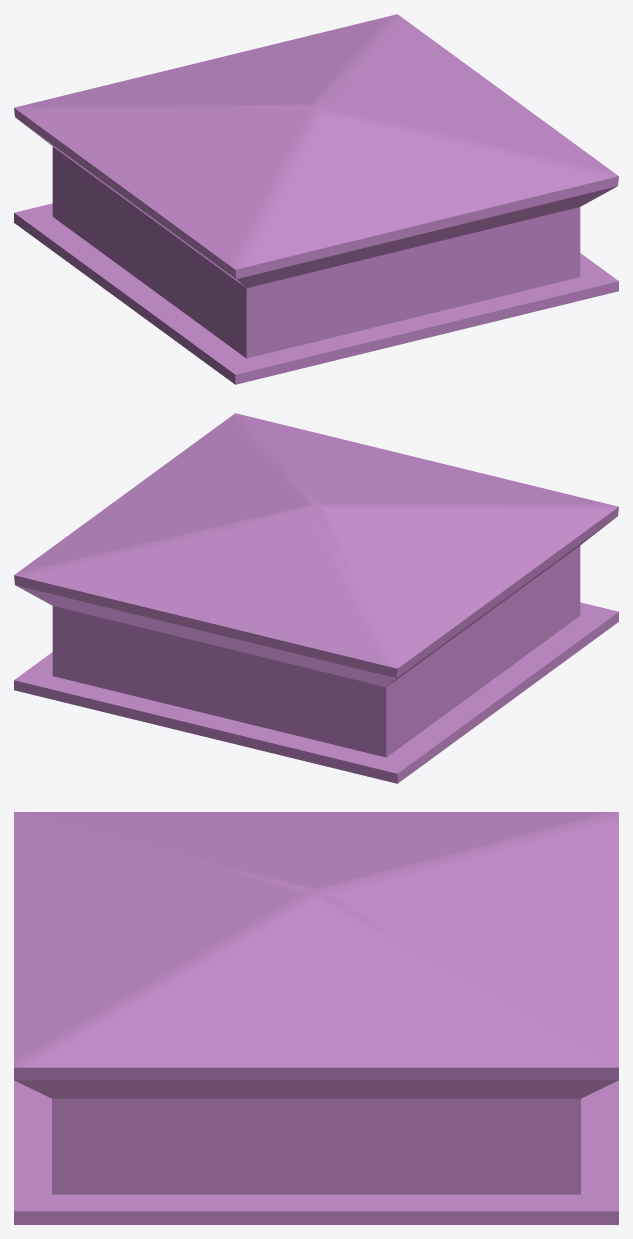
The model's file is Tower2_Top_A.fbx.
The picture shows the model from 3 angles, top to bottom: view 1: azimuth 30°, elevation 25°; view 2: azimuth 150°, elevation 25°; view 3: azimuth 270°, elevation 25°; orthographic projection. The views are drawn at different scales.
Parts seen in each view (by area): view 1: Tower2_Top_A; view 2: Tower2_Top_A; view 3: Tower2_Top_A.
Part boxes in pixels (bbox=[...]): Tower2_Top_A: bbox=[14, 14, 618, 384]; Tower2_Top_A: bbox=[14, 413, 618, 783]; Tower2_Top_A: bbox=[14, 812, 618, 1224].
Bounding box in the file's own units: 600 × 225 × 600.
